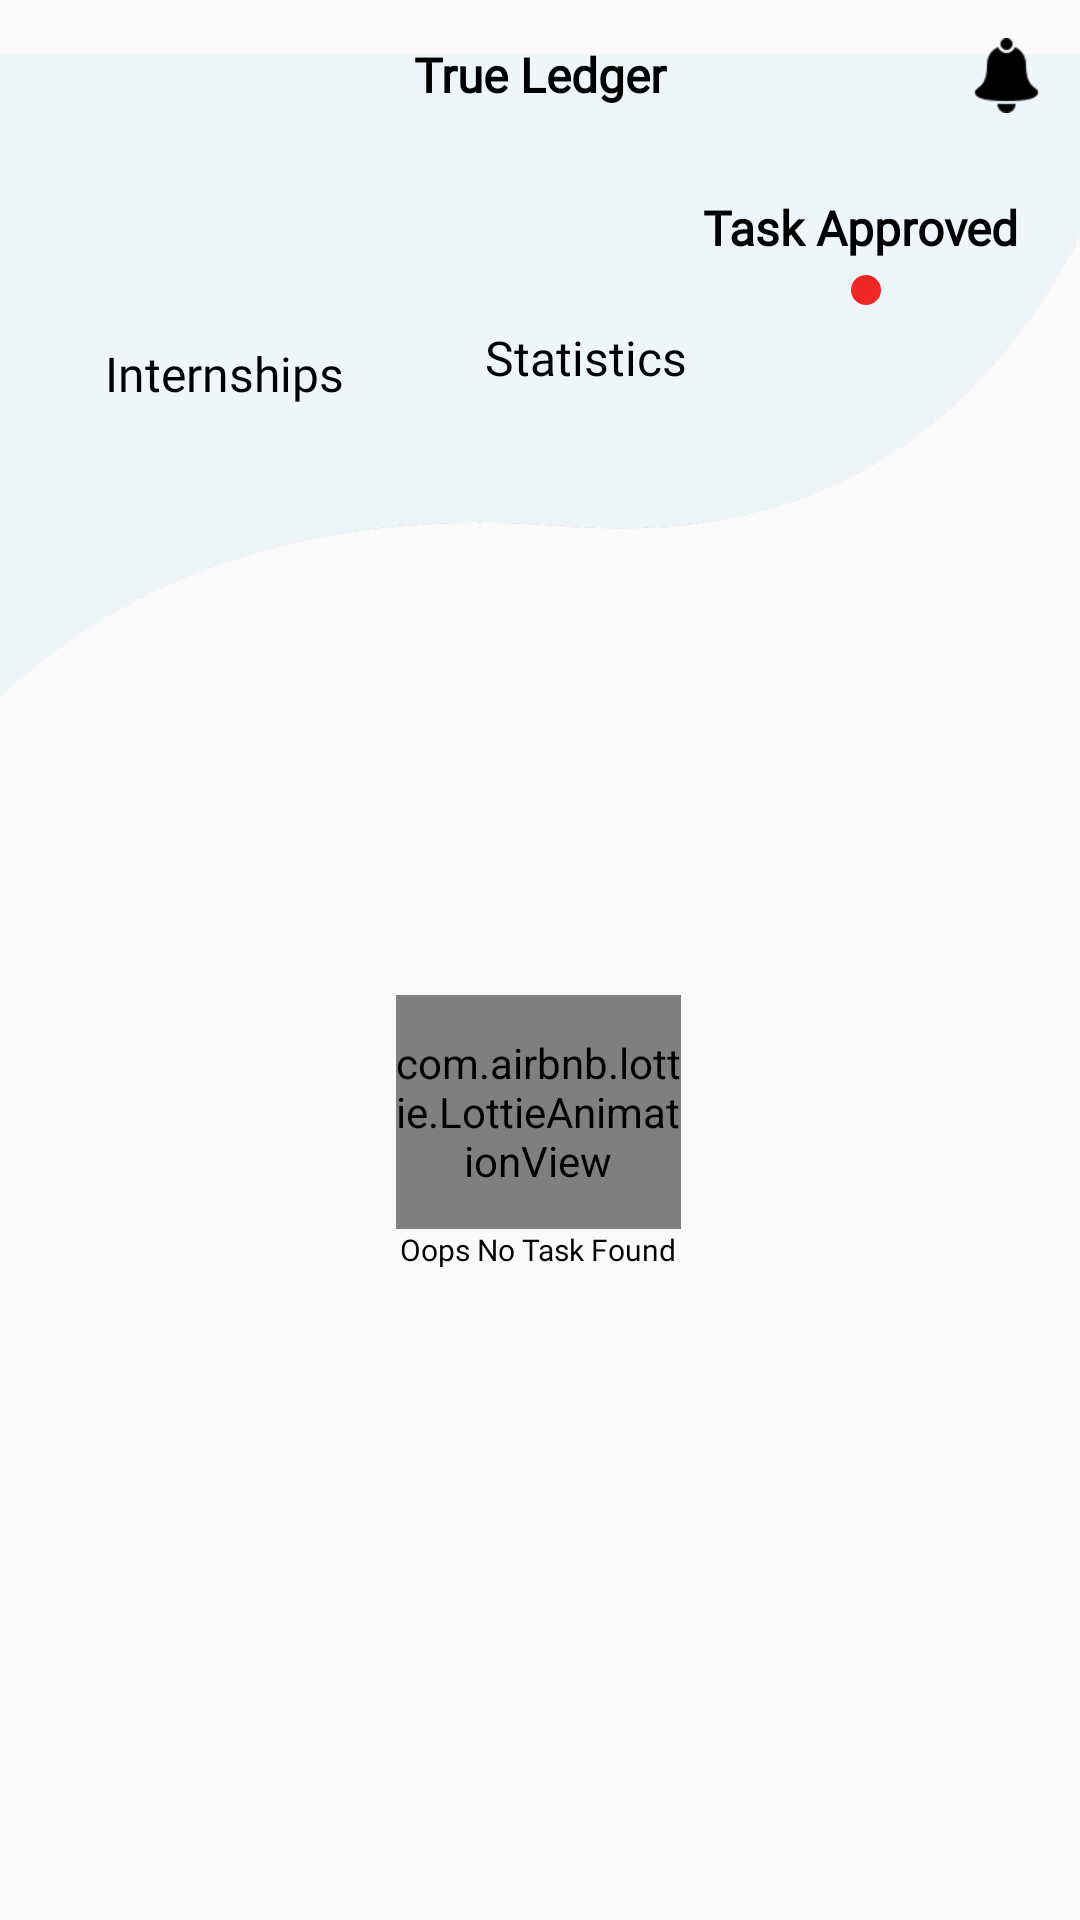

Point at icon controls on the screen. Image size 1080*1920, points as (x,y).
notification: (1006,75)
